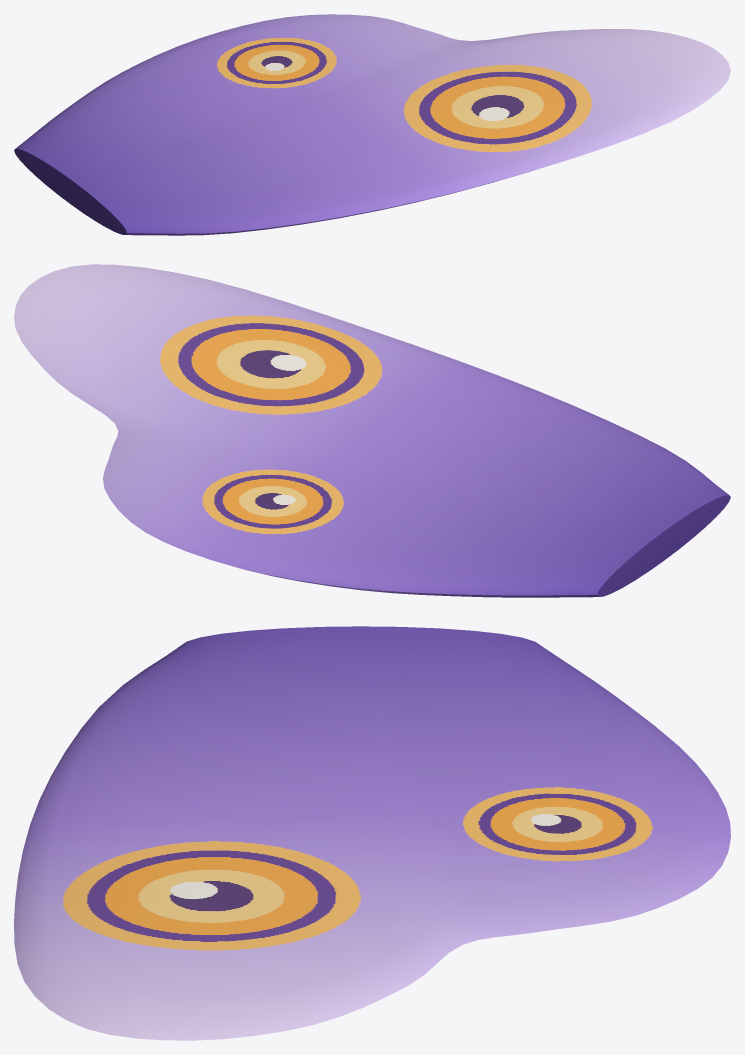
The model's file is lampeater_wing_l.fbx.
3 views of the same model, one above another, from view 1: azimuth 30°, elevation 25°; view 2: azimuth 150°, elevation 25°; view 3: azimuth 270°, elevation 25° (orthographic). The views are drawn at different scales.
Parts seen in each view (by area): view 1: lampeater_wing_l; view 2: lampeater_wing_l; view 3: lampeater_wing_l.
Part boxes in pixels (x1,y1,x2,y2): lampeater_wing_l: [14, 14, 730, 235]; lampeater_wing_l: [14, 264, 730, 597]; lampeater_wing_l: [14, 626, 730, 1040].
Size of the model in its own units: 1800 by 150 by 1200.
Materials: 1 (1 with a texture image).
